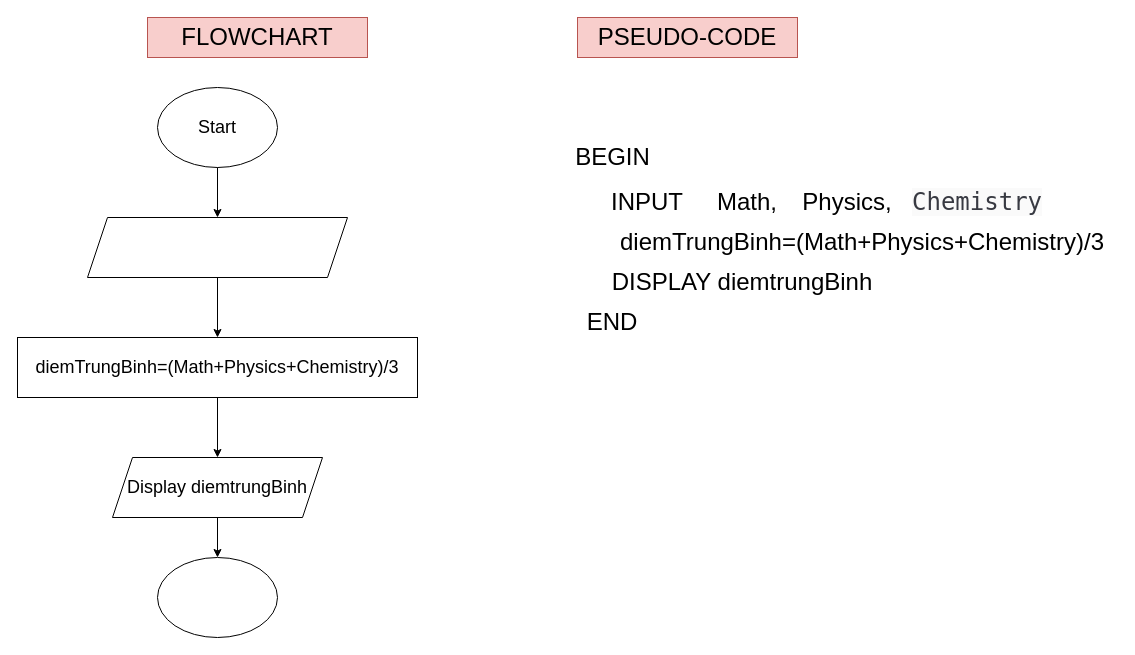
This 1135x655 diagram has some shape labels left out. Each missing label, with the centre of its shape:
"Nhập Math, Physics, Chemistry" belongs at point (217, 247).
"Stop" belongs at point (217, 597).
